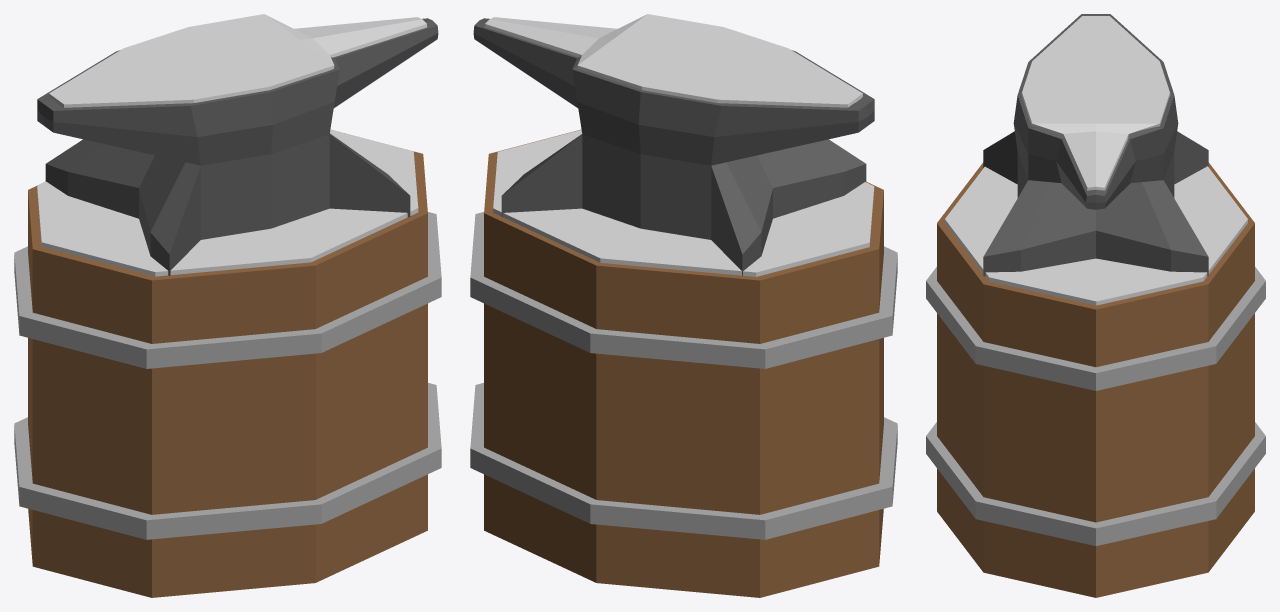
The model's file is Anvil_snow_mat.fbx.
3 views of the same model, side by side, from view 1: azimuth 30°, elevation 25°; view 2: azimuth 150°, elevation 25°; view 3: azimuth 270°, elevation 25° (orthographic). The views are drawn at different scales.
Visible parts, largest first — view 1: Anvil_snow_mat; view 2: Anvil_snow_mat; view 3: Anvil_snow_mat.
Part boxes in pixels (x1,y1,x2,y2): Anvil_snow_mat: (14, 14, 441, 597); Anvil_snow_mat: (470, 14, 897, 597); Anvil_snow_mat: (926, 14, 1265, 597).
Size of the model in its own units: 0.5888 by 0.6229 by 0.4574.
